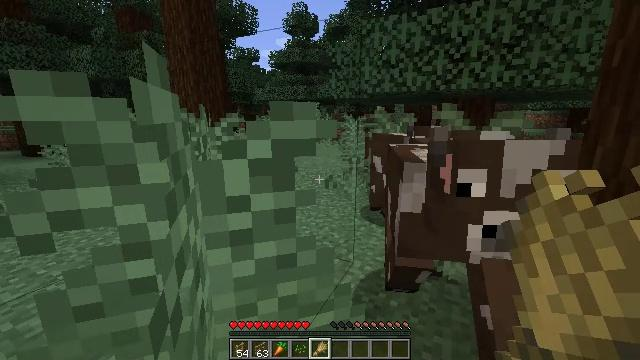cow: (386, 139, 567, 291)
